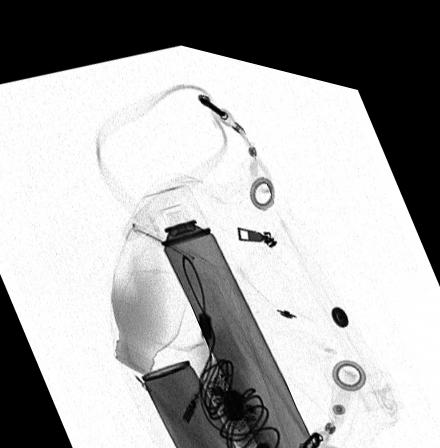Sprayer: (142, 173, 324, 448)
